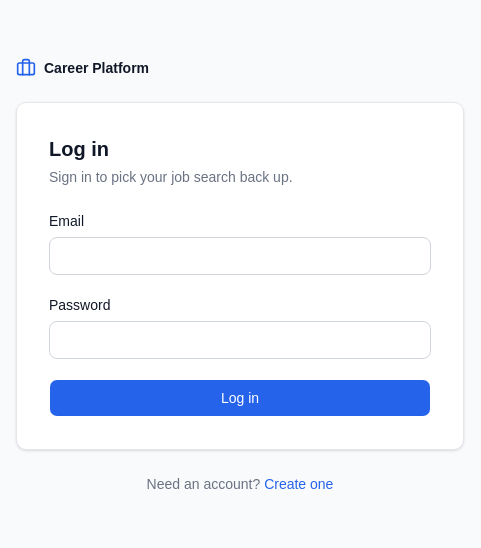
Test: LoginPage › shows the backend message inline on a 401 and does not navigate
This screenshot has width=481, height=548.
In the field labelled "Email": (240, 256) [49,237,431,275], type "ada@example.com"
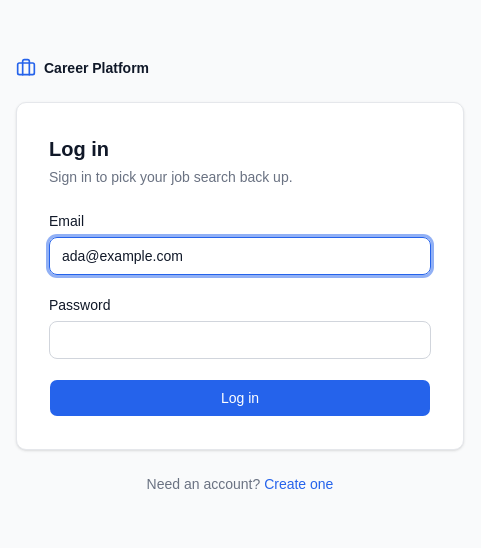
In the password field labelled "Password": (240, 340) [49,321,431,359], type "wrong-password"
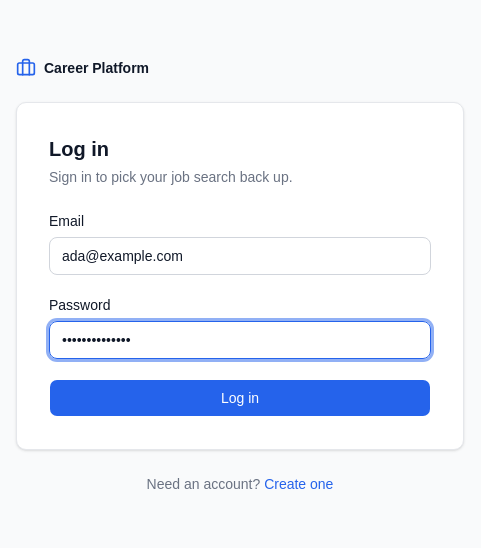
Click the button "Log in": (240, 398) [49,379,431,417]
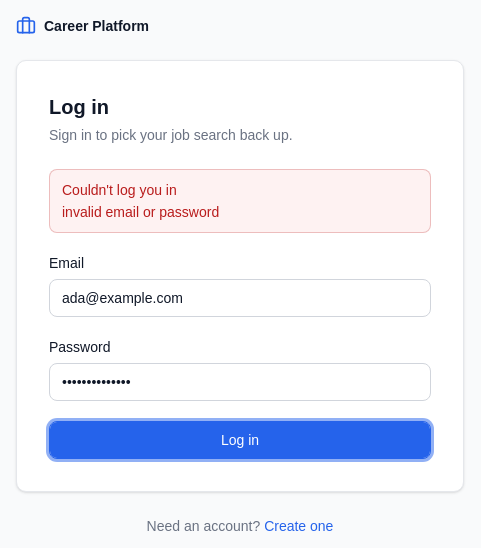
Result: the text "invalid email or password" is shown at [62,204,219,220]
